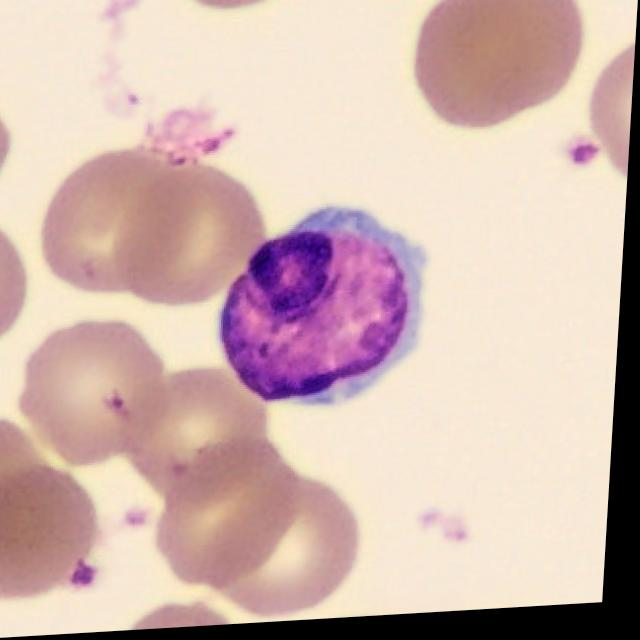Linfocito: (222, 208, 429, 410)
